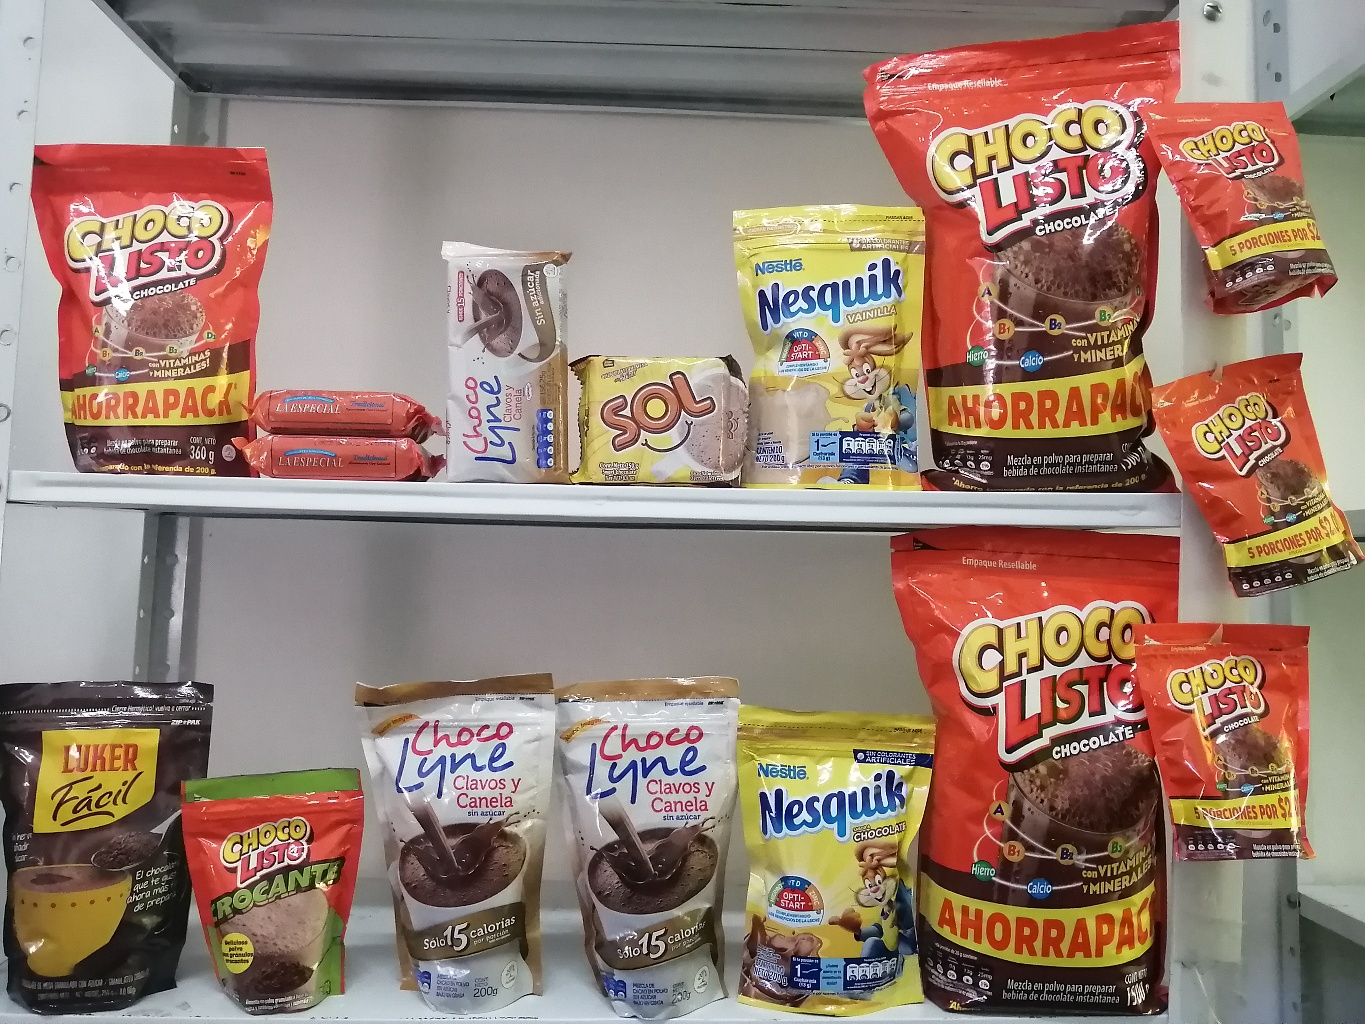COL0170102DYP10000: (154, 744, 387, 1024)
COL0170103DYP1,500: (858, 514, 1224, 1012)
COL0170103DYP36000: (14, 116, 286, 482)
COL0170303DYP20000: (707, 684, 958, 1018)
COL0170306DYP20000: (714, 171, 950, 497)
